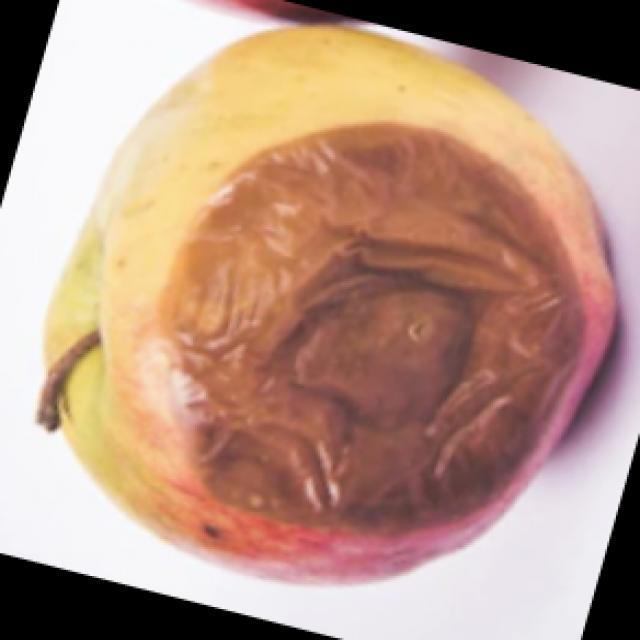Rotten: (70, 29, 607, 588)
